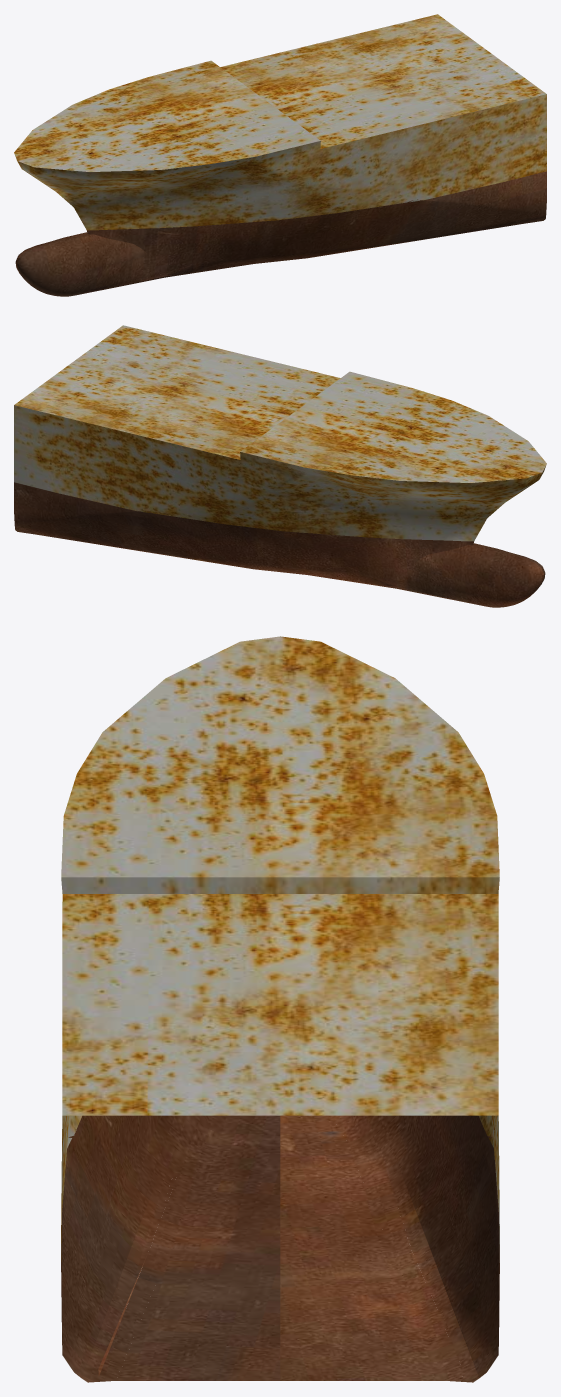
File: ship.gltf
The picture shows the model from 3 angles, top to bottom: view 1: azimuth 30°, elevation 25°; view 2: azimuth 150°, elevation 25°; view 3: azimuth 270°, elevation 25°; orthographic projection. The views are drawn at different scales.
Parts seen in each view (by area): view 1: Cone.002; view 2: Cone.002; view 3: Cone.002.
Boxes of the visible parts, box(x1,y1,x2,y2) form: Cone.002: box(14, 14, 546, 296); Cone.002: box(14, 325, 546, 607); Cone.002: box(61, 636, 499, 1382).
Size of the model in its own units: 5.75 by 1.68 by 2.29.
3 materials, 3 textured.
